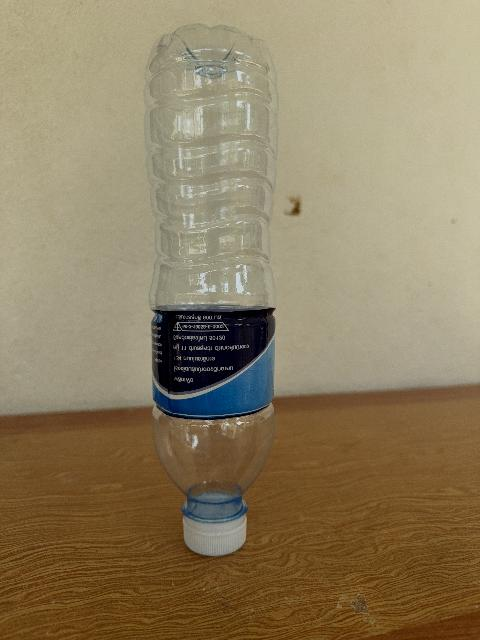bottle: (144, 25, 276, 555)
